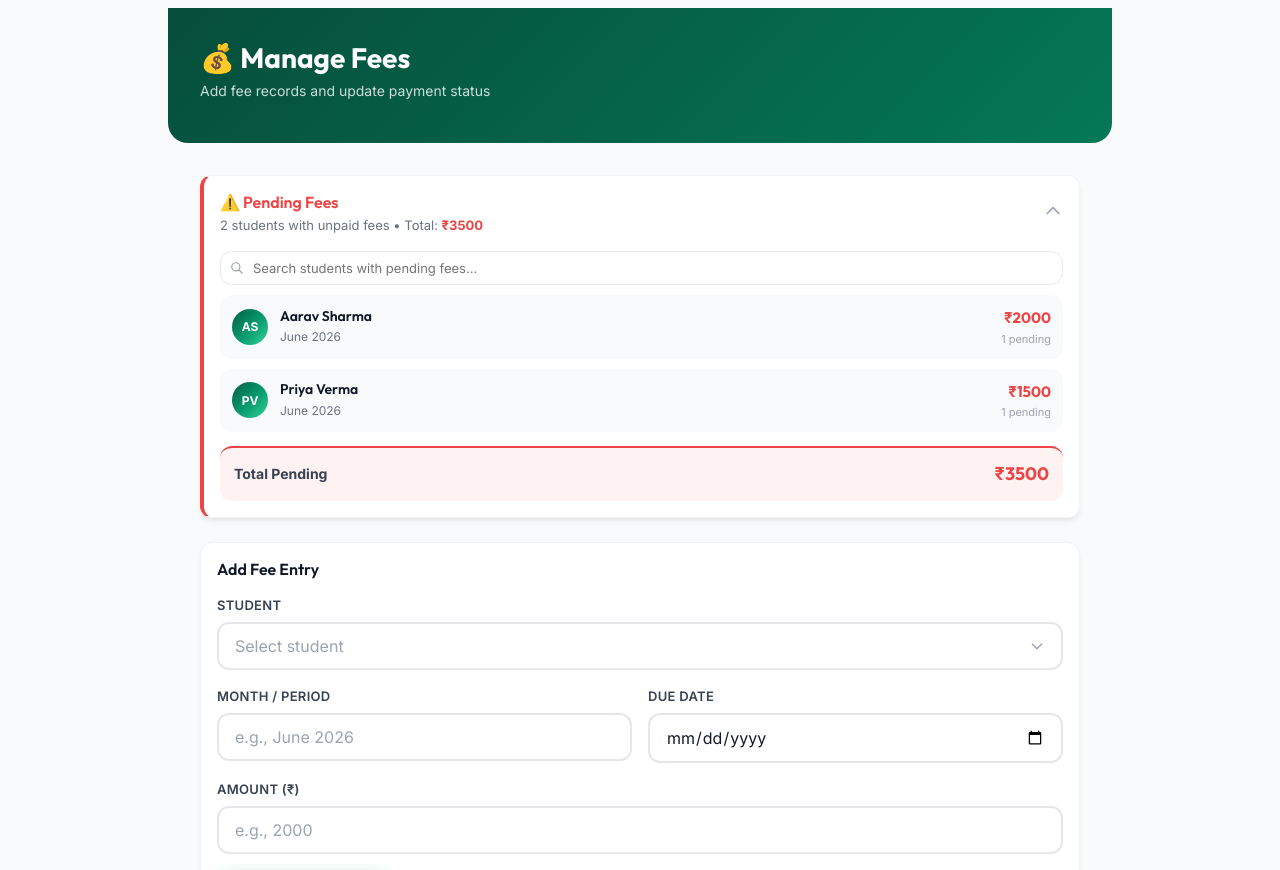
FeeForm — search inside the student picker › matches on email too
Expected: the heading "Add Fee Entry" is shown, [217, 558, 319, 578]
Click the button with id "fee-student" at (289, 646), box [217, 622, 1063, 670]
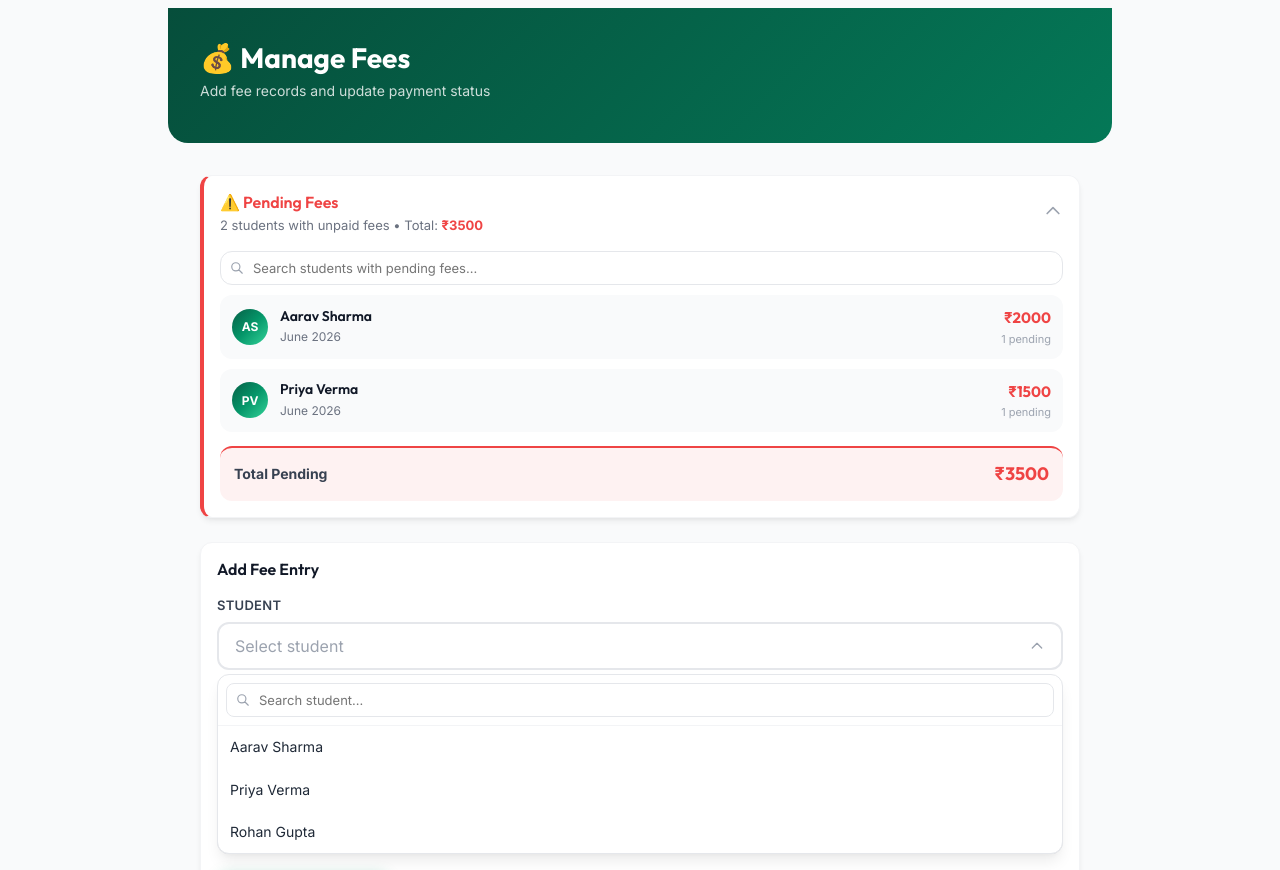
Type "priya@example" into the field with placeholder "Search student..." at (640, 700), box [226, 683, 1054, 717]
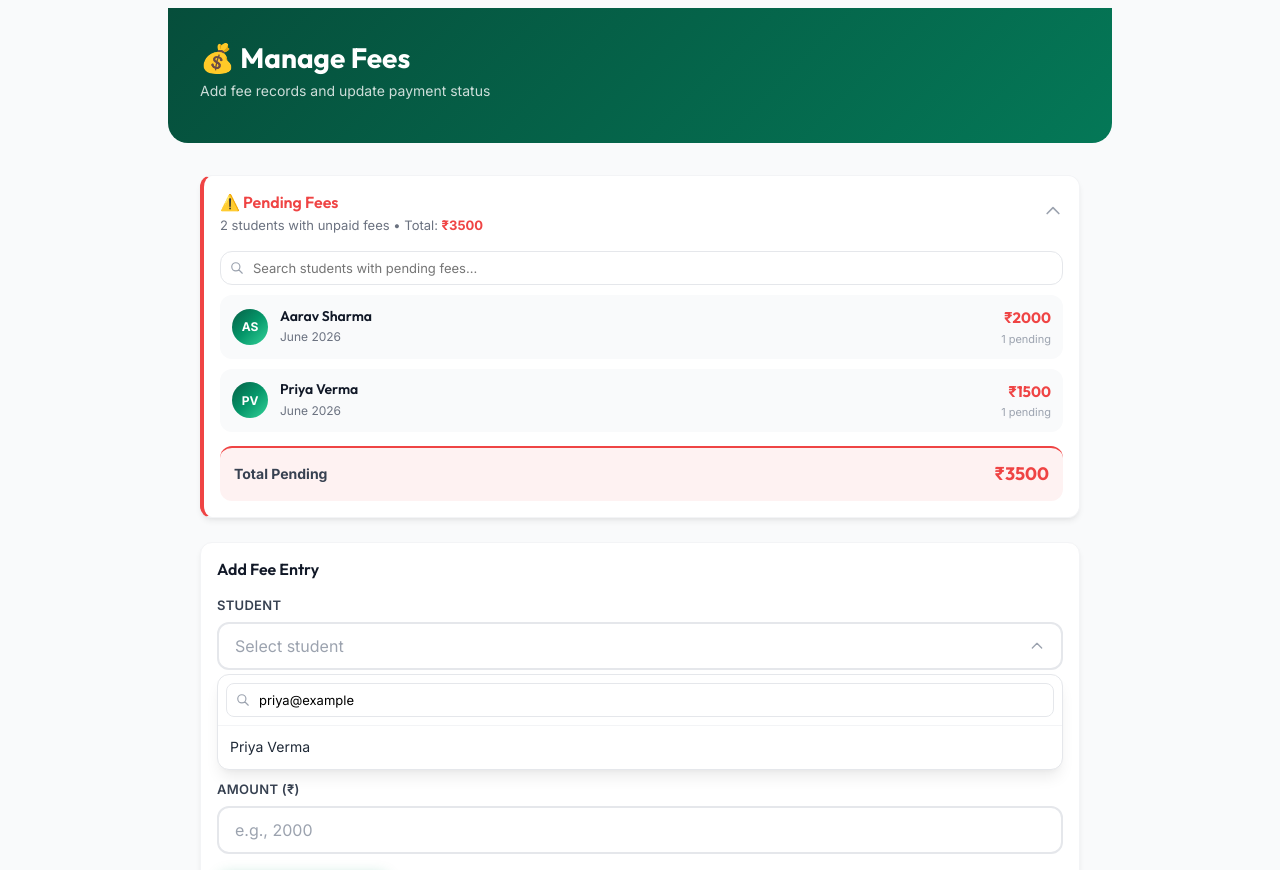
Result: the number of options is 1 at [230, 738, 310, 755]
